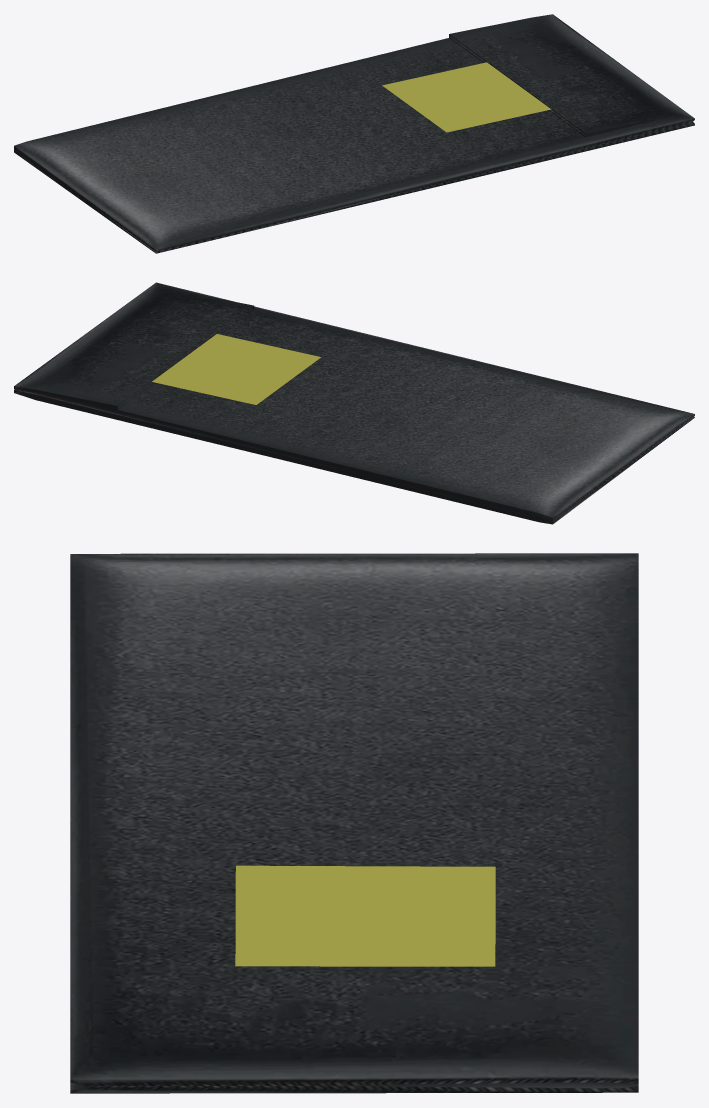
Rendered from portaconta.fbx.
3 views of the same model, one above another, from view 1: azimuth 30°, elevation 25°; view 2: azimuth 150°, elevation 25°; view 3: azimuth 270°, elevation 25° (orthographic). The views are drawn at different scales.
Parts seen in each view (by area): view 1: porta conta; view 2: porta conta; view 3: porta conta.
Boxes of the visible parts, left/top/right/bottom form: porta conta: left=14, top=14, right=694, bottom=253; porta conta: left=14, top=282, right=694, bottom=524; porta conta: left=70, top=553, right=638, bottom=1093.
Bounding box in the file's own units: 21.31 × 0.6916 × 9.74.
